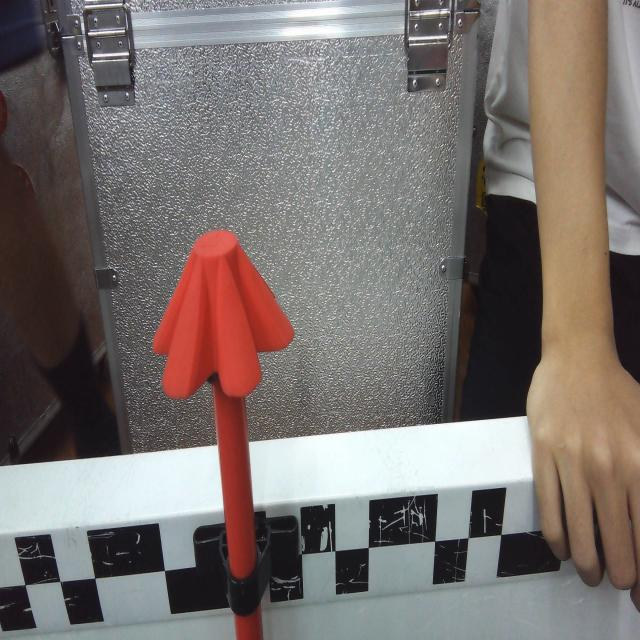zred-Stake-Head: (152, 230, 294, 398)
